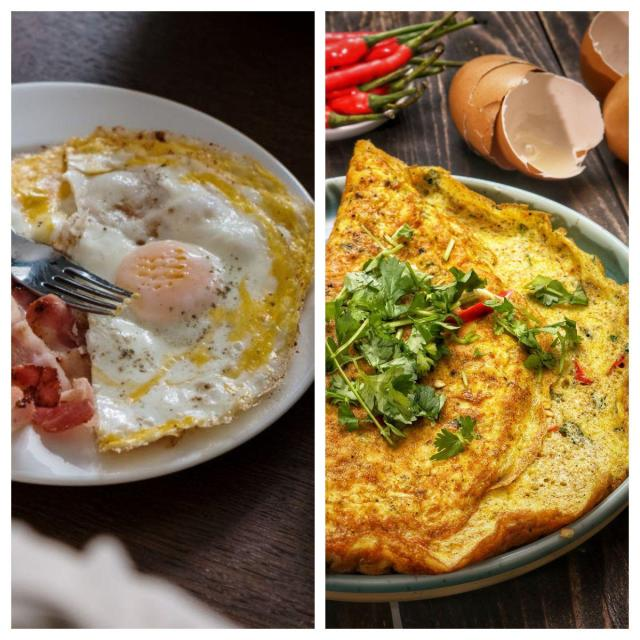omelette: (302, 158, 640, 574), (66, 112, 308, 486)
